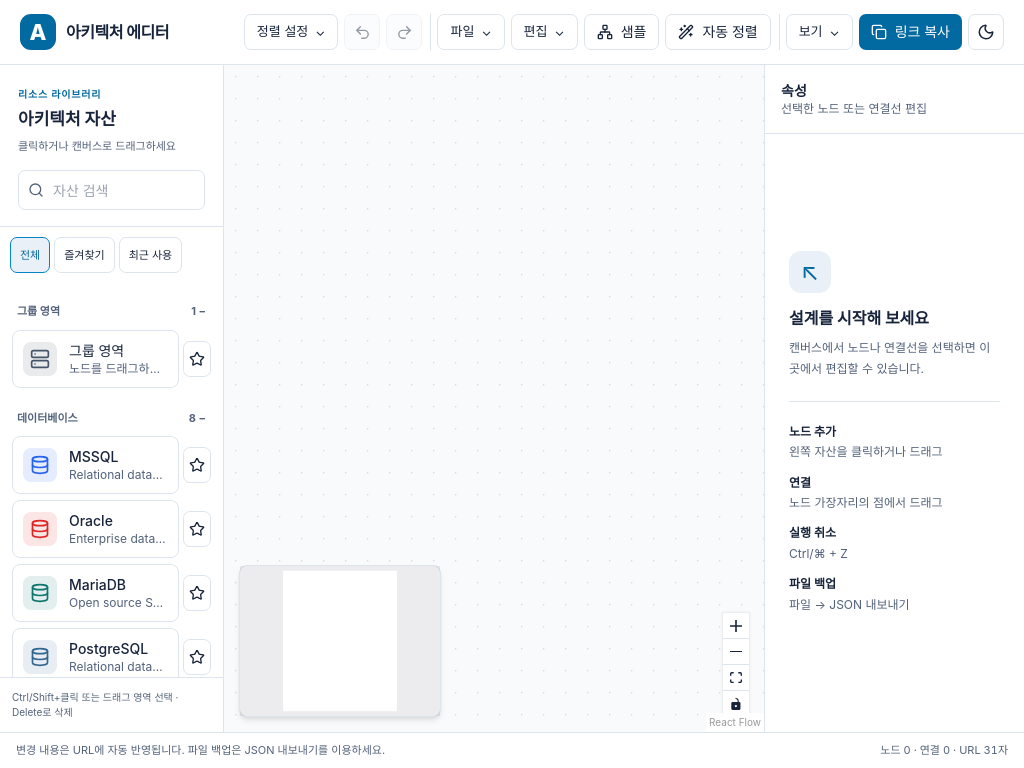
Test: exports versioned JSON, retains a retry link and releases its Blob URL
Click the button "샘플": (622, 32) [584, 14, 659, 50]
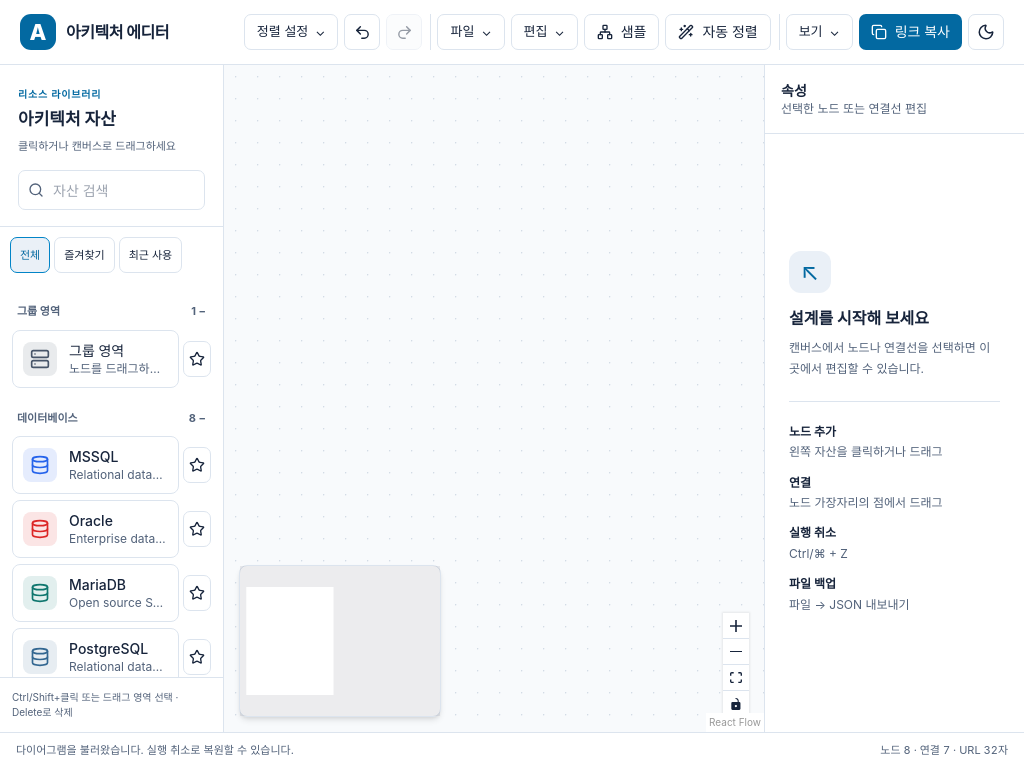
Click the heading "파일": (471, 32) [438, 14, 505, 50]
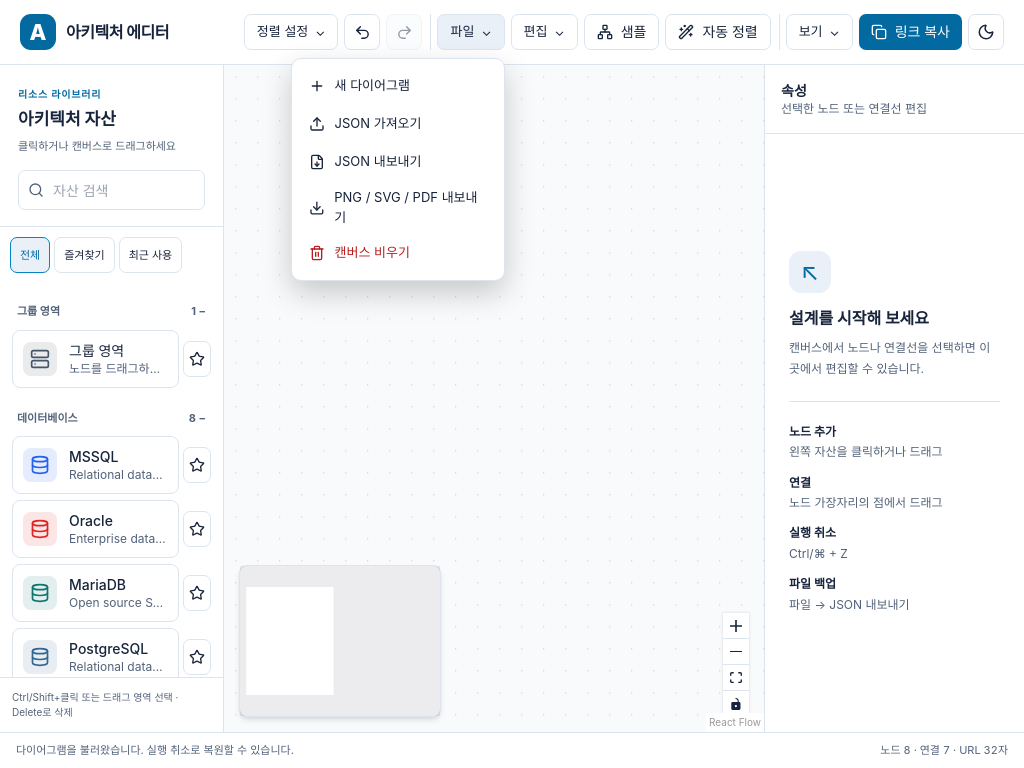
Click the button "JSON 내보내기": (398, 162) [300, 143, 496, 181]
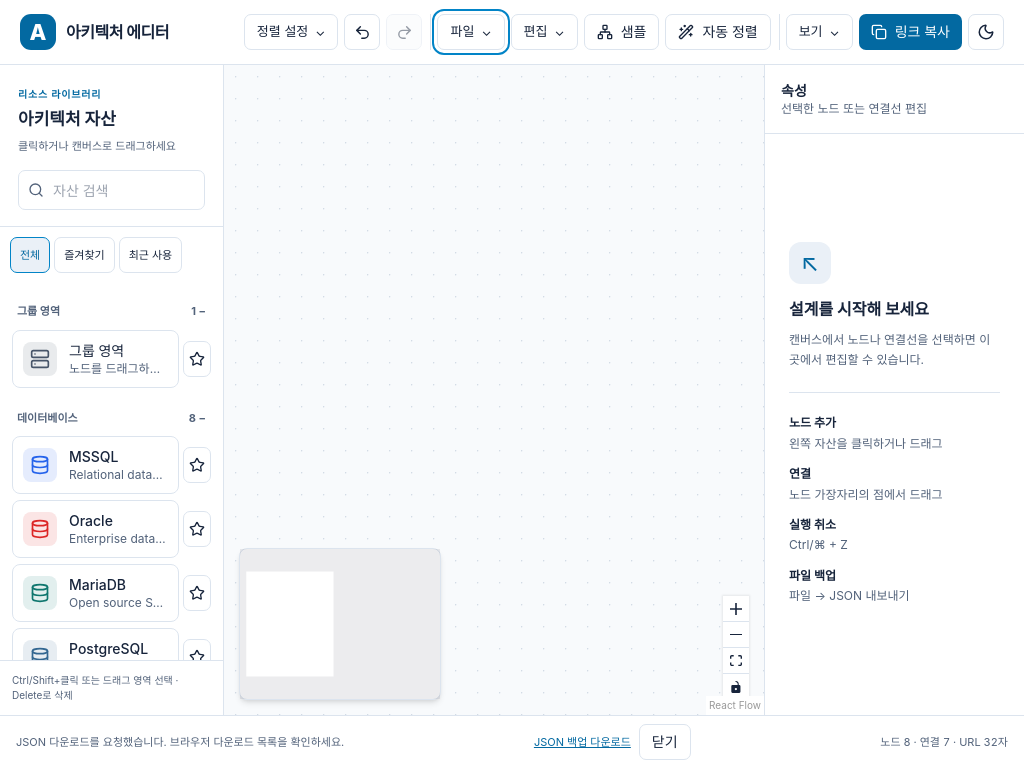
Click the button with aria-label "JSON 백업 링크 닫기": (665, 742) [639, 724, 691, 760]
Wait 400 ms
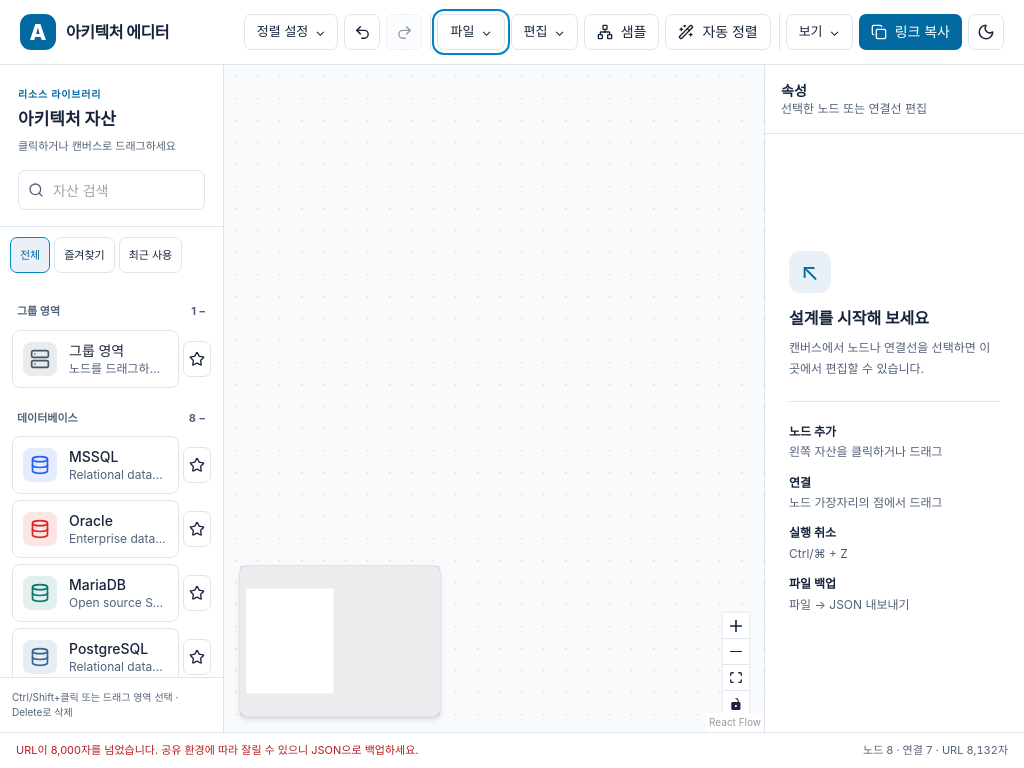
Now the link "JSON 백업 다운로드" is gone
Now the message shows "8,000자", box [16, 743, 418, 757]
